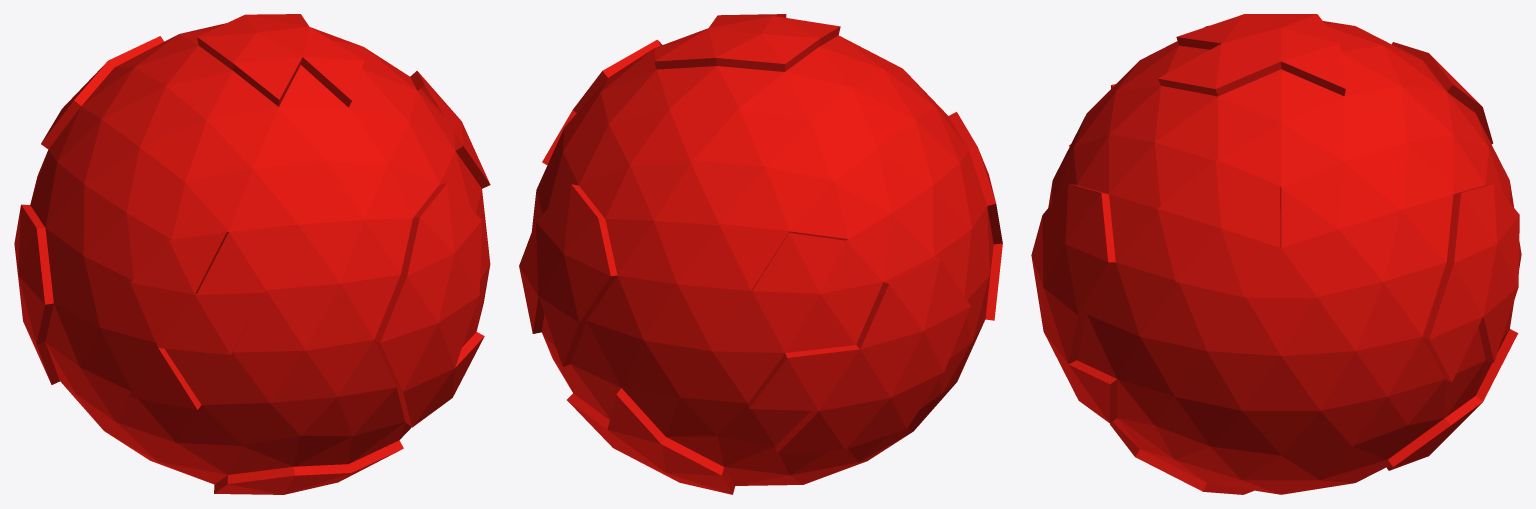
Rendered from RedPlanet.glb.
3 views of the same model, side by side, from view 1: azimuth 30°, elevation 25°; view 2: azimuth 150°, elevation 25°; view 3: azimuth 270°, elevation 25° (orthographic). The views are drawn at different scales.
Parts seen in each view (by area): view 1: RedPlanet; view 2: RedPlanet; view 3: RedPlanet.
Part boxes in pixels (box(x1,y1,x2,y2)): RedPlanet: box(14, 14, 490, 494); RedPlanet: box(519, 14, 1002, 494); RedPlanet: box(1031, 14, 1521, 494).
Bounding box in the file's own units: 9.18 × 9.36 × 9.18.
